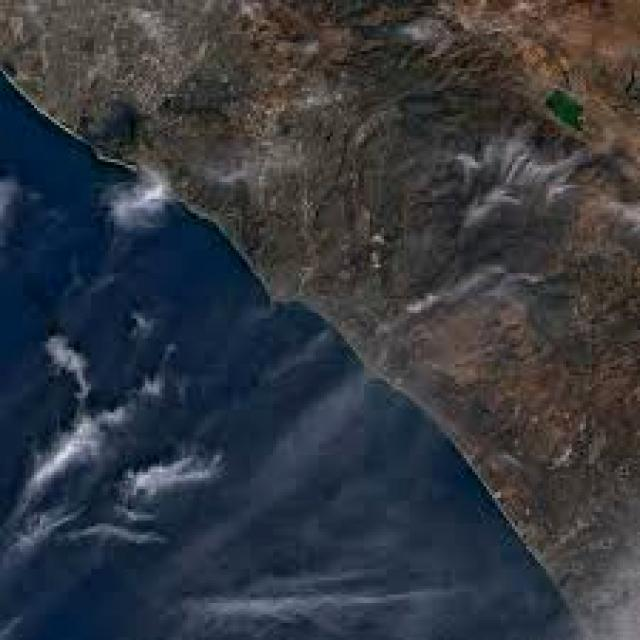oil spill: (171, 370, 366, 588), (3, 336, 164, 563), (183, 589, 460, 637), (26, 404, 133, 503), (120, 453, 224, 509), (106, 171, 173, 230), (12, 507, 79, 560), (46, 336, 91, 401), (66, 524, 164, 546), (131, 311, 156, 341), (0, 618, 22, 639)
